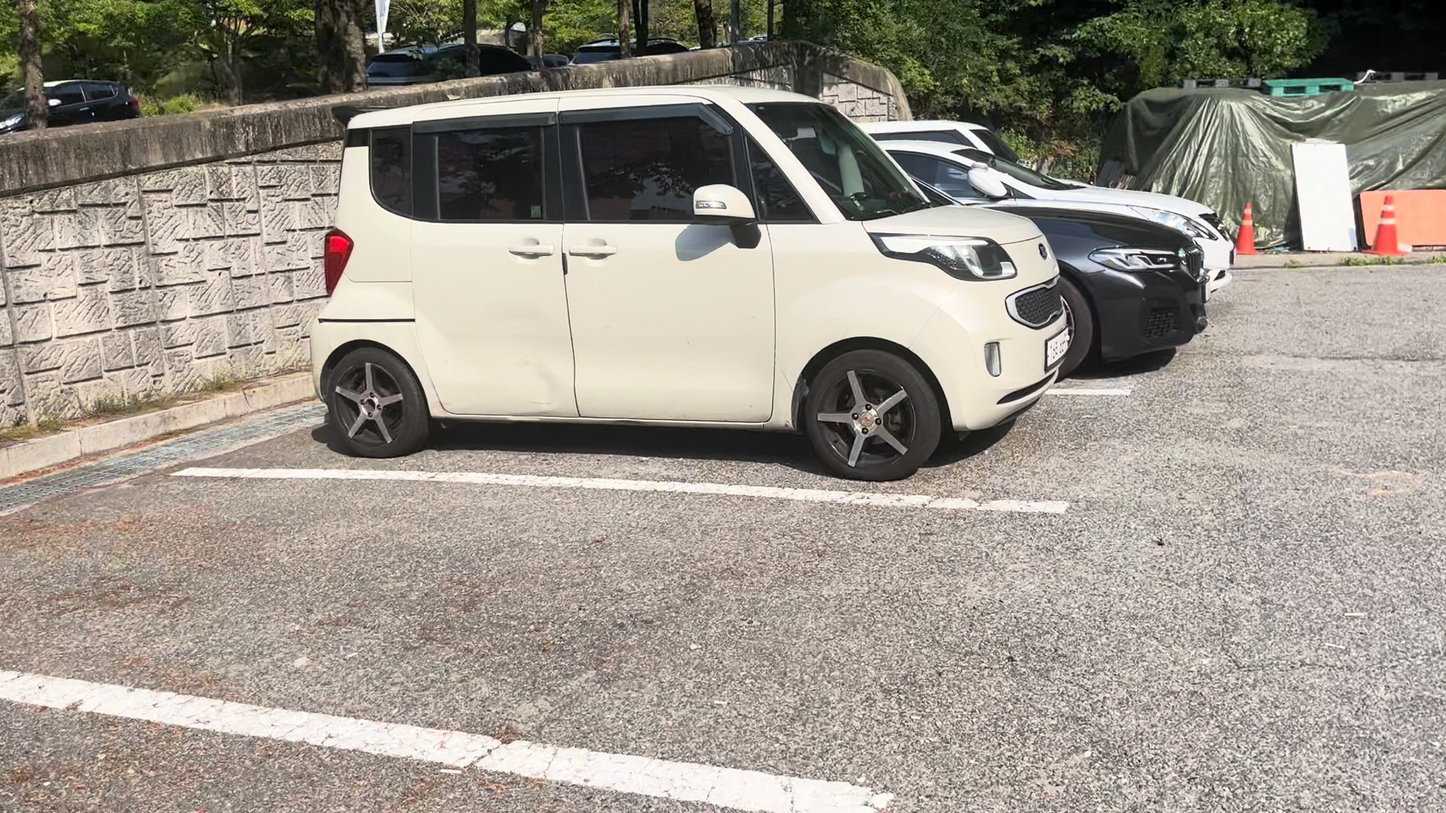door_handle: (505, 242, 551, 260), (569, 244, 614, 259)
license_plate: (1045, 320, 1074, 368)
side_mirror: (691, 183, 755, 221), (965, 163, 1008, 199)
tail_light: (325, 230, 349, 285)
